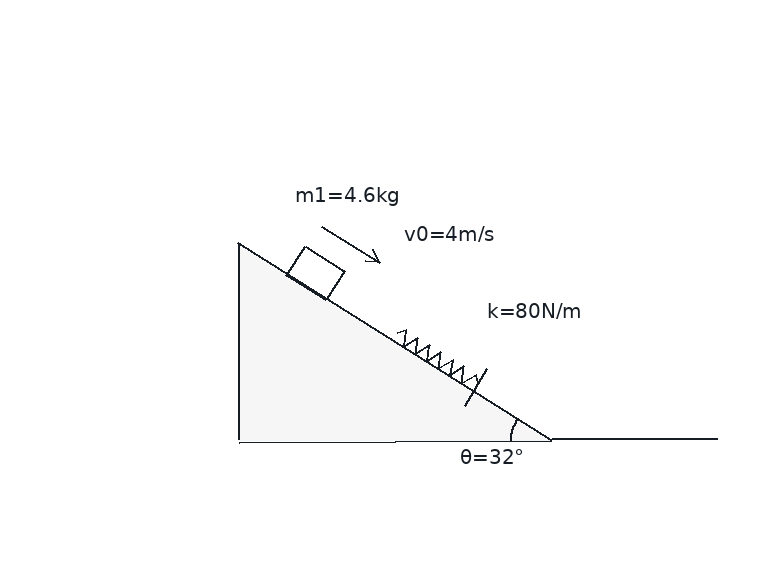block: (285, 244, 346, 302)
ramp: (236, 242, 553, 442)
spring: (394, 328, 480, 385)
